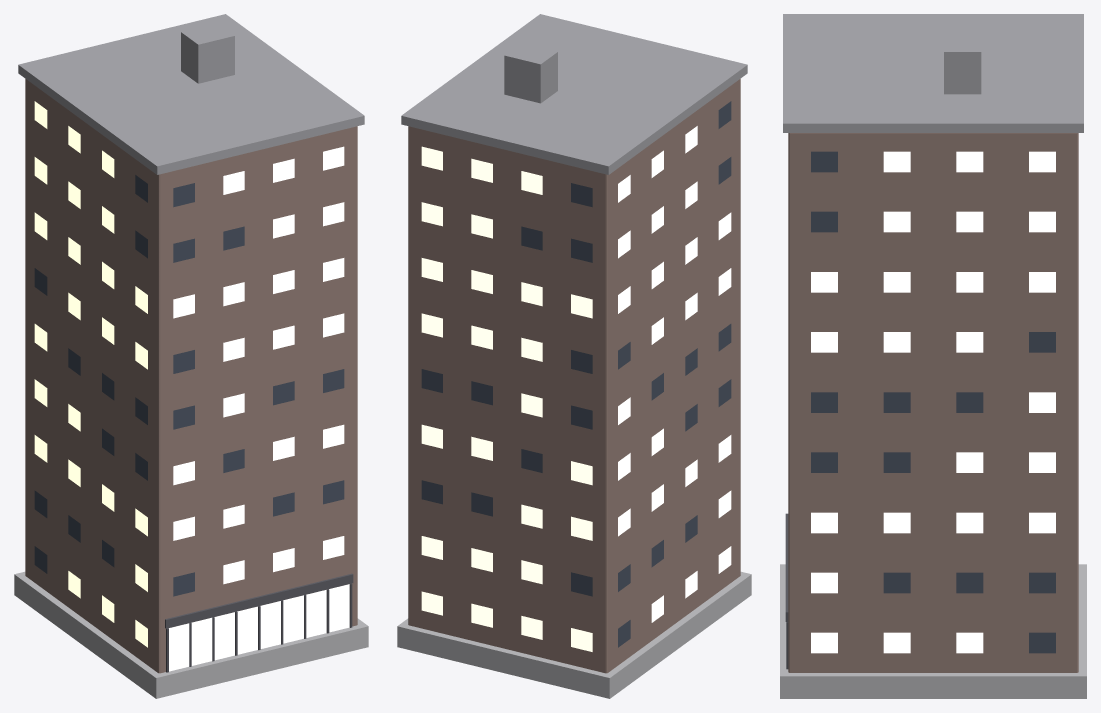
The model's file is bt-fh6-bldg-c.glb.
3 renders of one model, left to right at view 1: azimuth 30°, elevation 25°; view 2: azimuth 150°, elevation 25°; view 3: azimuth 270°, elevation 25°, orthographic. The views are drawn at different scales.
Visible parts, largest first — view 1: bt-fh6-bldg-c_body, bt-fh6-bldg-c_cornice, bt-fh6-bldg-c_skirt, bt-fh6-bldg-c_storefront, bt-fh6-bldg-c_roofbox, bt-fh6-bldg-c_storehead; view 2: bt-fh6-bldg-c_body, bt-fh6-bldg-c_cornice, bt-fh6-bldg-c_skirt, bt-fh6-bldg-c_roofbox; view 3: bt-fh6-bldg-c_body, bt-fh6-bldg-c_cornice, bt-fh6-bldg-c_skirt, bt-fh6-bldg-c_roofbox, bt-fh6-bldg-c_ws0_1, bt-fh6-bldg-c_ws0_2, bt-fh6-bldg-c_ws1_1, bt-fh6-bldg-c_ws1_2, bt-fh6-bldg-c_ws2_1, bt-fh6-bldg-c_ws2_2, bt-fh6-bldg-c_ws7_1, bt-fh6-bldg-c_ws7_2 (+28 smaller).
Part boxes in pixels (x1=…): bt-fh6-bldg-c_body: x1=25, y1=79, x2=357, y2=673; bt-fh6-bldg-c_cornice: x1=18, y1=14, x2=364, y2=174; bt-fh6-bldg-c_skirt: x1=14, y1=571, x2=368, y2=698; bt-fh6-bldg-c_storefront: x1=169, y1=584, x2=349, y2=671; bt-fh6-bldg-c_roofbox: x1=181, y1=23, x2=234, y2=83; bt-fh6-bldg-c_storehead: x1=165, y1=573, x2=353, y2=628; bt-fh6-bldg-c_body: x1=408, y1=79, x2=740, y2=673; bt-fh6-bldg-c_cornice: x1=401, y1=14, x2=747, y2=174; bt-fh6-bldg-c_skirt: x1=397, y1=571, x2=751, y2=698; bt-fh6-bldg-c_roofbox: x1=504, y1=43, x2=557, y2=103; bt-fh6-bldg-c_body: x1=788, y1=133, x2=1078, y2=672; bt-fh6-bldg-c_cornice: x1=783, y1=14, x2=1083, y2=132; bt-fh6-bldg-c_skirt: x1=780, y1=564, x2=1086, y2=698; bt-fh6-bldg-c_roofbox: x1=944, y1=32, x2=981, y2=94; bt-fh6-bldg-c_ws0_1: x1=956, y1=632, x2=983, y2=653; bt-fh6-bldg-c_ws0_2: x1=883, y1=632, x2=910, y2=653; bt-fh6-bldg-c_ws1_1: x1=956, y1=572, x2=983, y2=593; bt-fh6-bldg-c_ws1_2: x1=883, y1=572, x2=910, y2=593; bt-fh6-bldg-c_ws2_1: x1=956, y1=512, x2=983, y2=533; bt-fh6-bldg-c_ws2_2: x1=883, y1=512, x2=910, y2=533; bt-fh6-bldg-c_ws7_1: x1=956, y1=211, x2=983, y2=232; bt-fh6-bldg-c_ws7_2: x1=883, y1=211, x2=910, y2=232.
Bounding box in the file's own units: 12.8 × 32.8 × 14.8.
